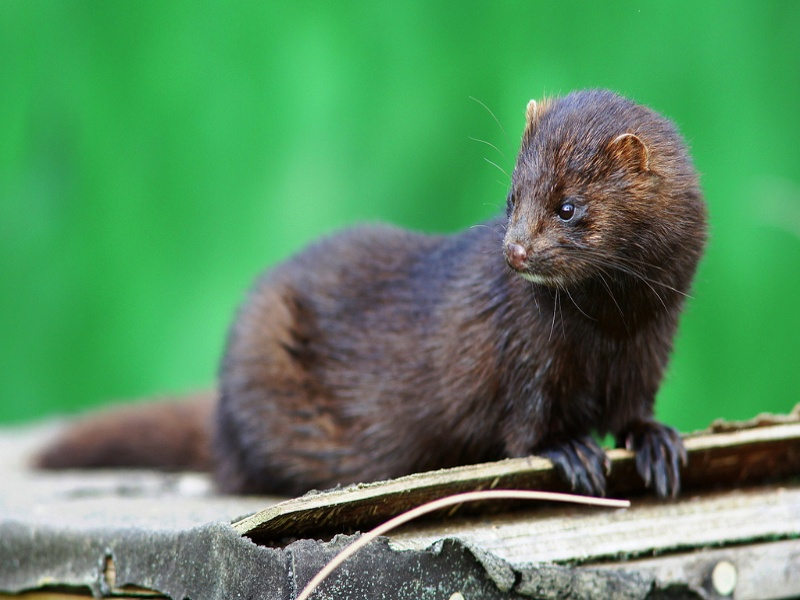minkish: (36, 85, 720, 509)
